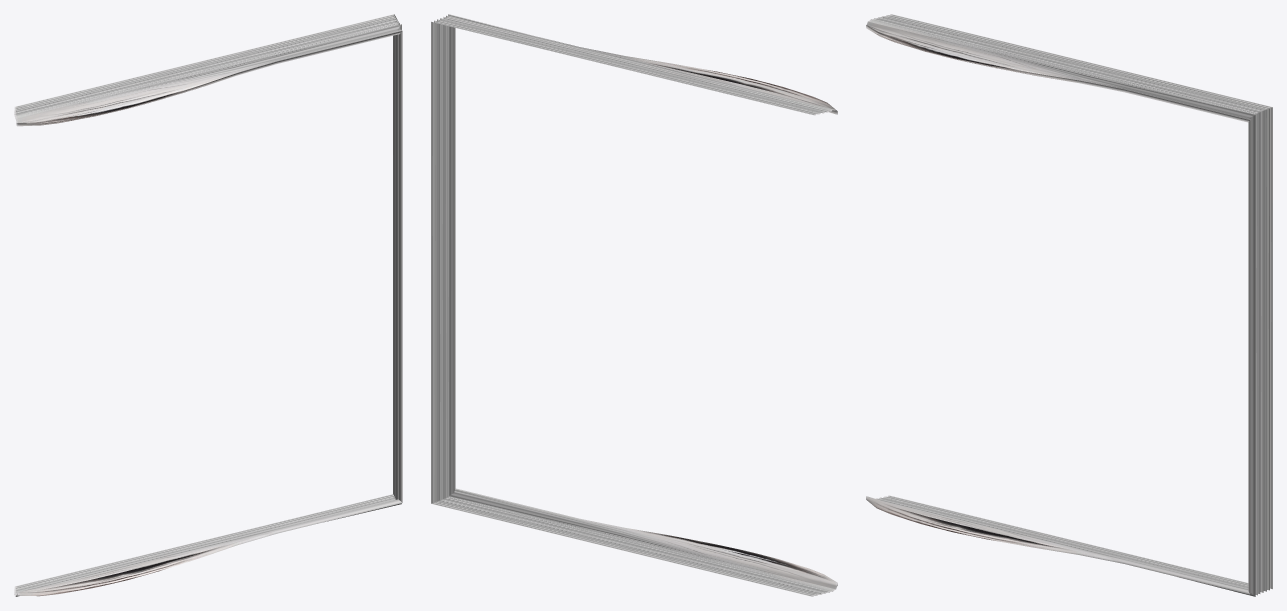
The model's file is MeshBook_12_0_GeomSubset_1.obj.
3 views of the same model, side by side, from view 1: azimuth 30°, elevation 25°; view 2: azimuth 150°, elevation 25°; view 3: azimuth 330°, elevation 25° (orthographic).
Parts seen in each view (by area): view 1: MeshBook_12_0_GeomSubset_1; view 2: MeshBook_12_0_GeomSubset_1; view 3: MeshBook_12_0_GeomSubset_1.
Part boxes in pixels (left/top/right/bottom): MeshBook_12_0_GeomSubset_1: left=14, top=14, right=402, bottom=596; MeshBook_12_0_GeomSubset_1: left=431, top=14, right=837, bottom=596; MeshBook_12_0_GeomSubset_1: left=866, top=14, right=1272, bottom=596.
Size of the model in its own units: 0.2597 by 0.3043 by 0.0292.
